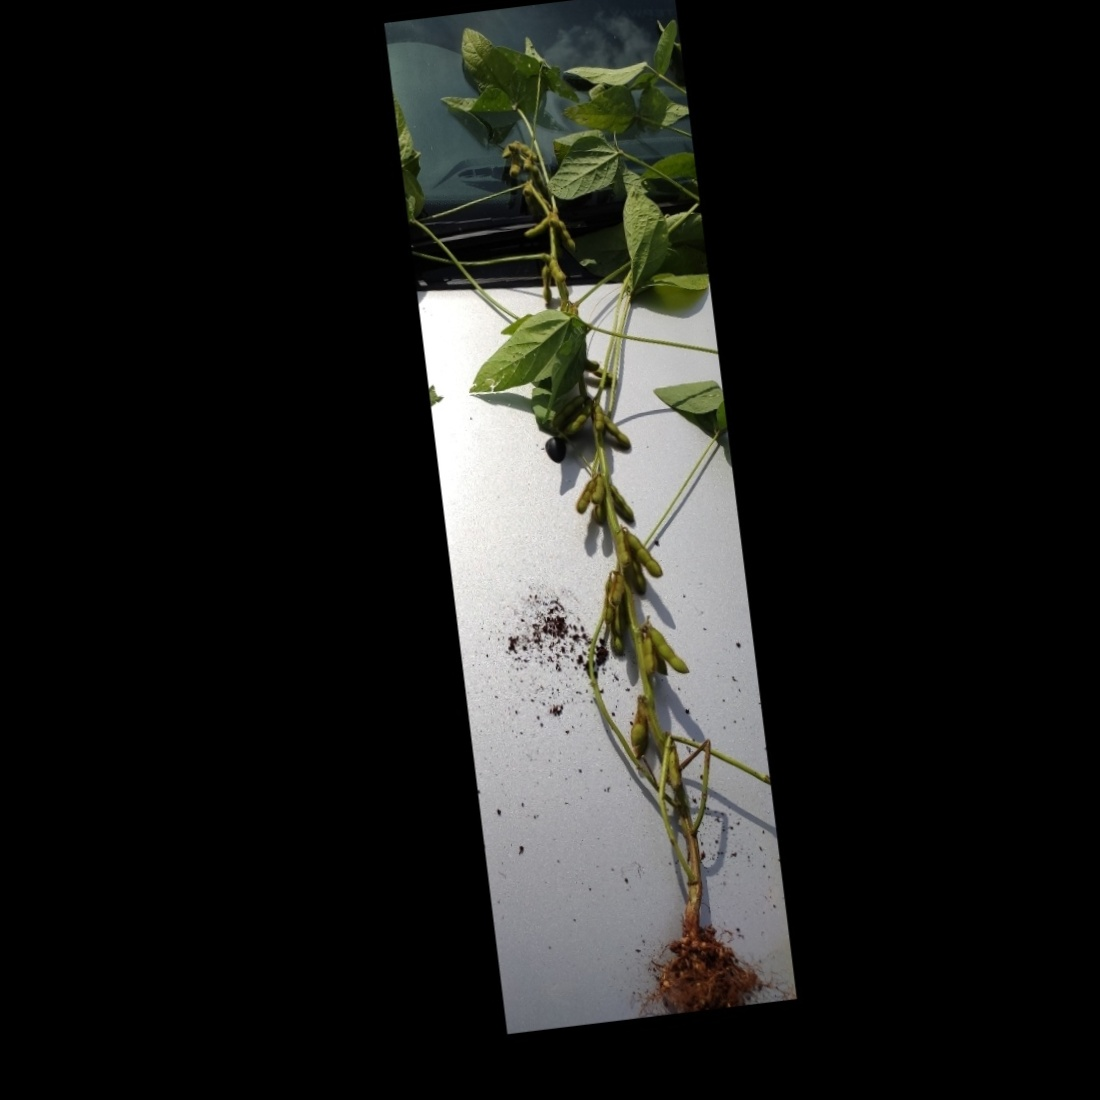pod: (646, 618, 692, 679), (618, 525, 664, 584), (554, 403, 598, 443), (546, 393, 592, 430), (609, 479, 645, 525), (623, 697, 653, 749), (604, 600, 629, 660), (569, 474, 602, 516), (598, 410, 632, 450), (552, 213, 580, 258), (613, 520, 634, 572), (605, 566, 629, 610), (519, 211, 554, 239), (584, 473, 609, 510), (543, 251, 567, 288), (535, 264, 554, 309), (588, 396, 607, 435)
soy: (400, 51, 785, 1018)
